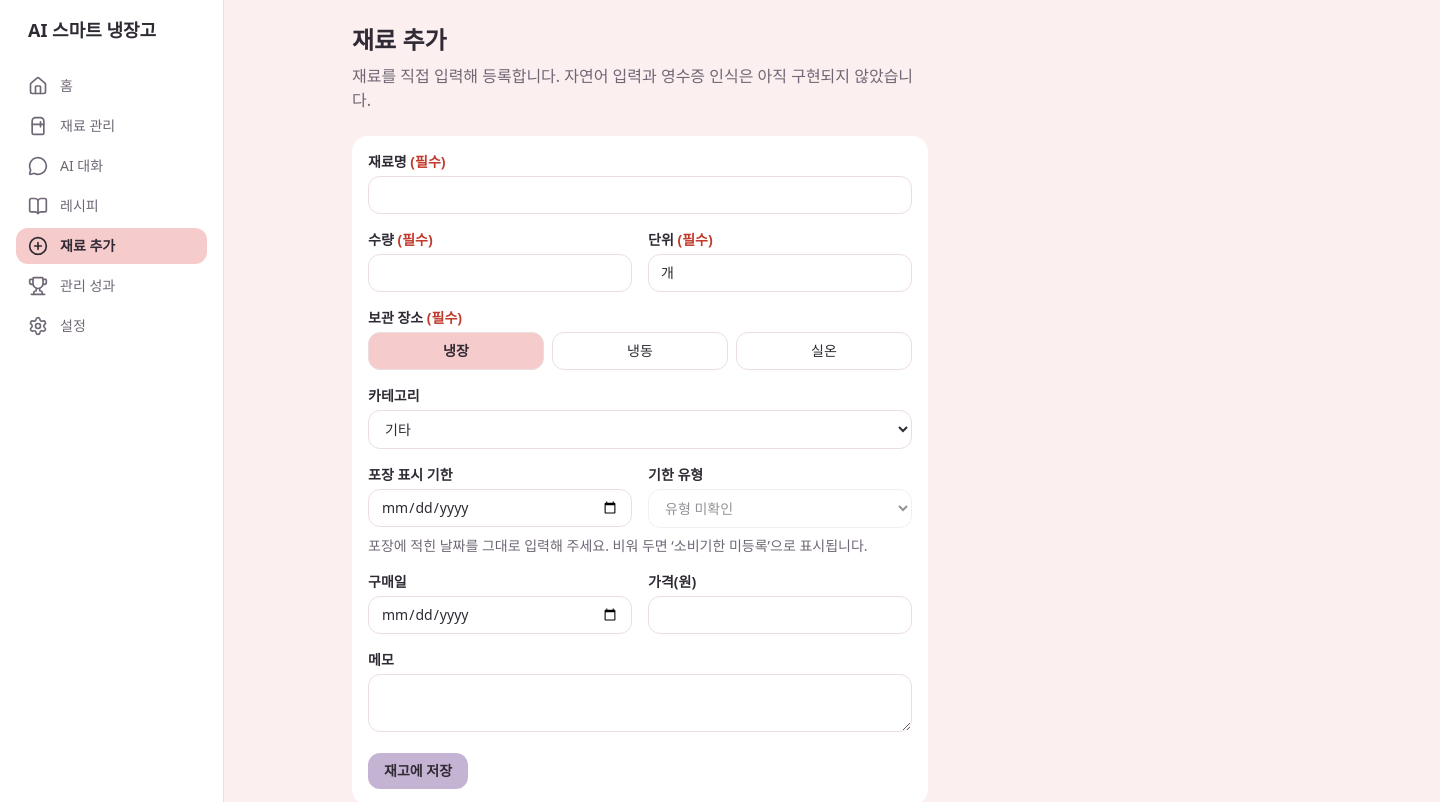
재료 추가 › 필수값이 비어 있으면 저장하지 않고 오류를 보여준다
Click the button "재고에 저장" at (418, 771), box left=368, top=753, right=468, bottom=789
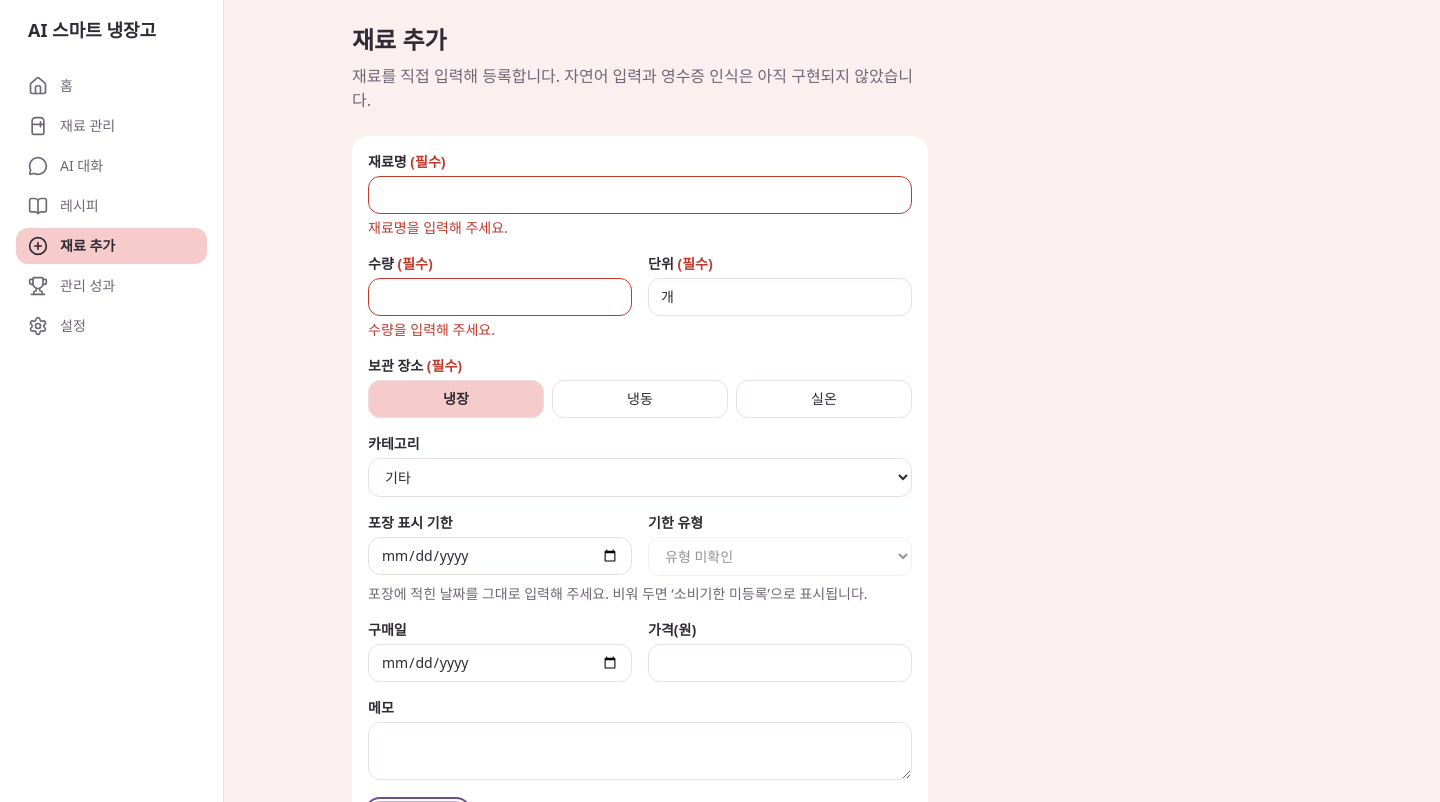
Expected: the text "재료명을 입력해 주세요." is shown, left=368, top=218, right=508, bottom=237
Expected: the text "수량을 입력해 주세요." is shown, left=368, top=320, right=495, bottom=339
